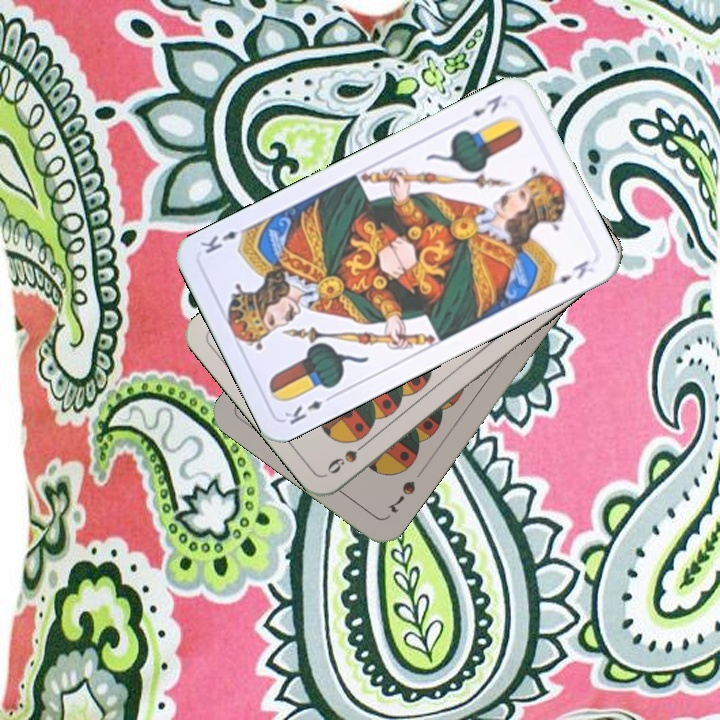EK: (280, 390, 337, 428), (467, 90, 505, 119)
S7: (384, 476, 419, 516)
S9: (323, 435, 374, 477)
